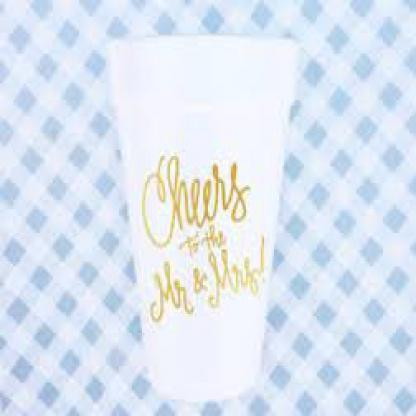paper: (104, 34, 294, 400)
